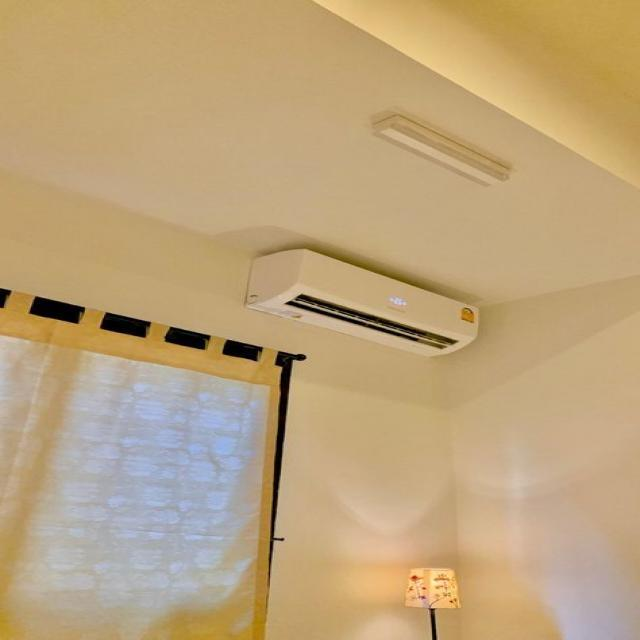AC: (243, 245, 480, 358)
